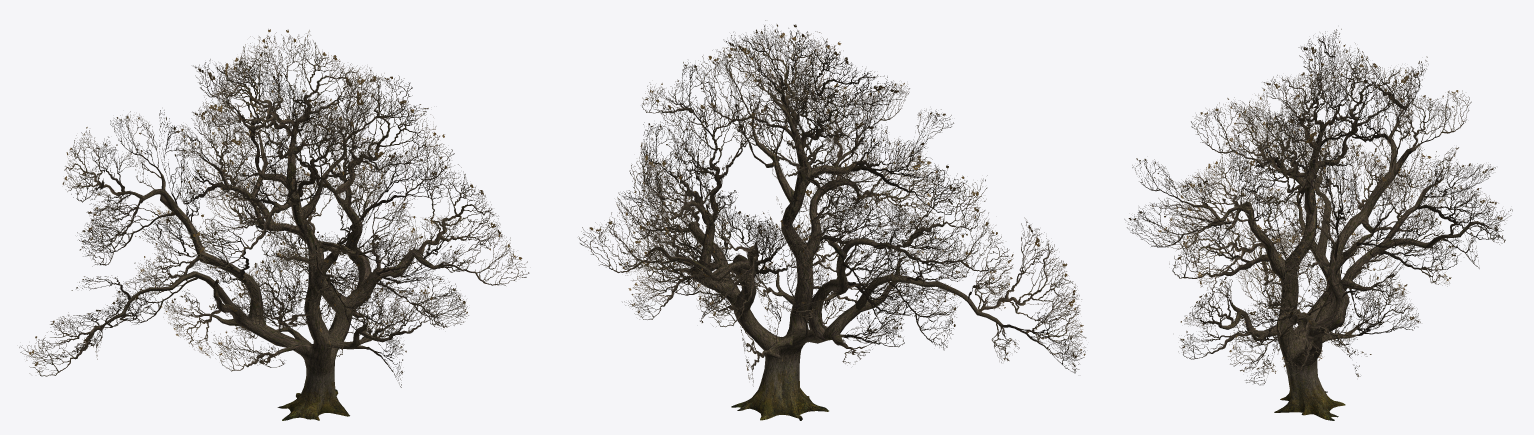
Rendered from tree_oak.obj.
3 renders of one model, left to right at view 1: azimuth 30°, elevation 25°; view 2: azimuth 150°, elevation 25°; view 3: azimuth 270°, elevation 25°, orthographic. The views are drawn at different scales.
Bounding box in the file's own units: 23.67 × 17.99 × 17.66.
3 materials, 3 textured.
